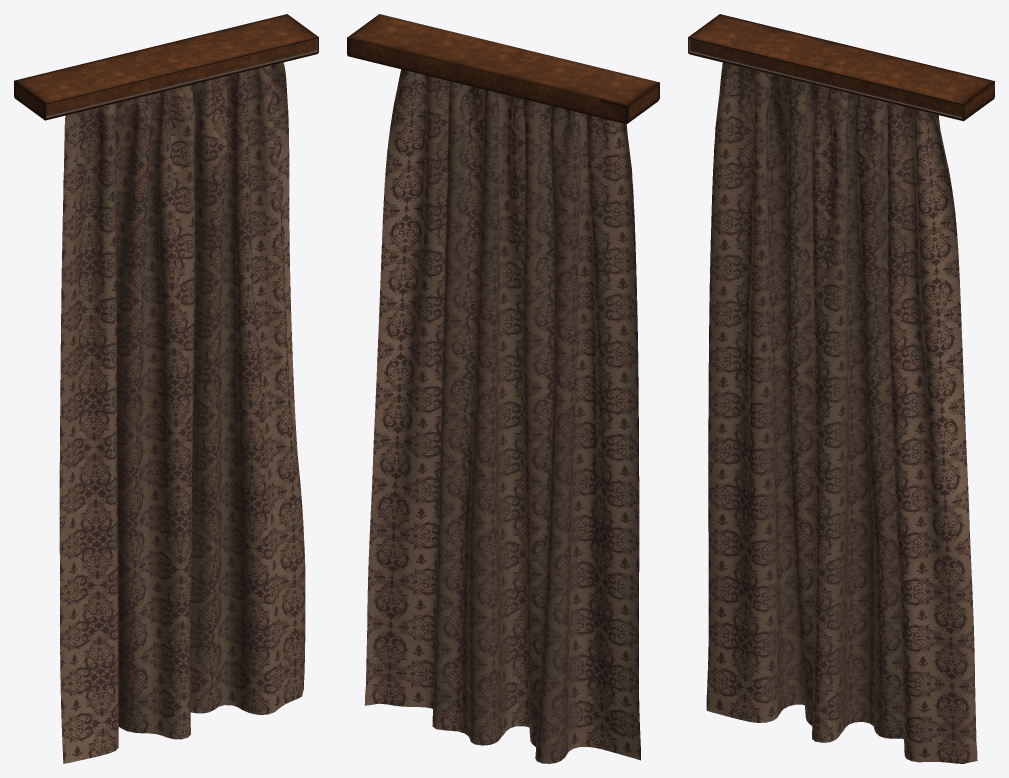
Rendered from victorian_curtains.glb.
3 renders of one model, left to right at view 1: azimuth 30°, elevation 25°; view 2: azimuth 150°, elevation 25°; view 3: azimuth 330°, elevation 25°, orthographic. The views are drawn at different scales.
Visible parts, largest first — view 1: Plane.001, Cube.002; view 2: Plane.001, Cube.002; view 3: Plane.001, Cube.002.
Part boxes in pixels (x1=…): Plane.001: x1=59, y1=62, x2=305, y2=763; Cube.002: x1=14, y1=14, x2=318, y2=120; Plane.001: x1=364, y1=69, x2=640, y2=763; Cube.002: x1=347, y1=14, x2=659, y2=124; Plane.001: x1=706, y1=62, x2=977, y2=763; Cube.002: x1=688, y1=14, x2=994, y2=121.
Bounding box in the file's own units: 1.31 × 3.04 × 0.3029.
2 materials, 2 textured.
